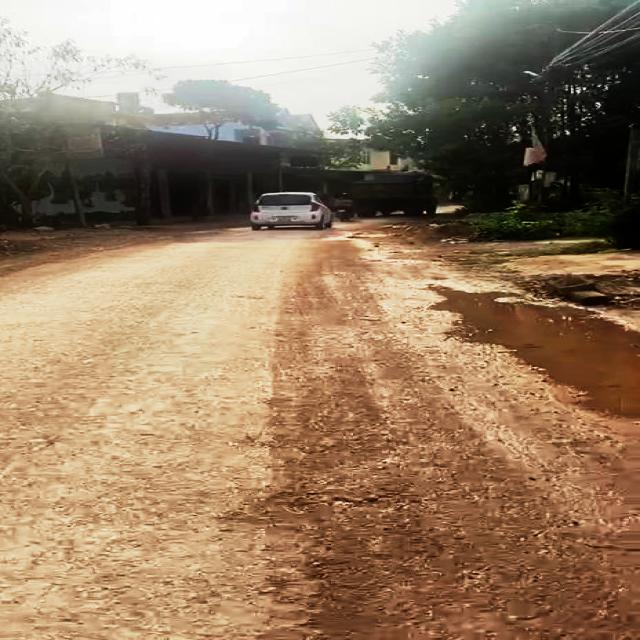pothole: (430, 283, 640, 423)
